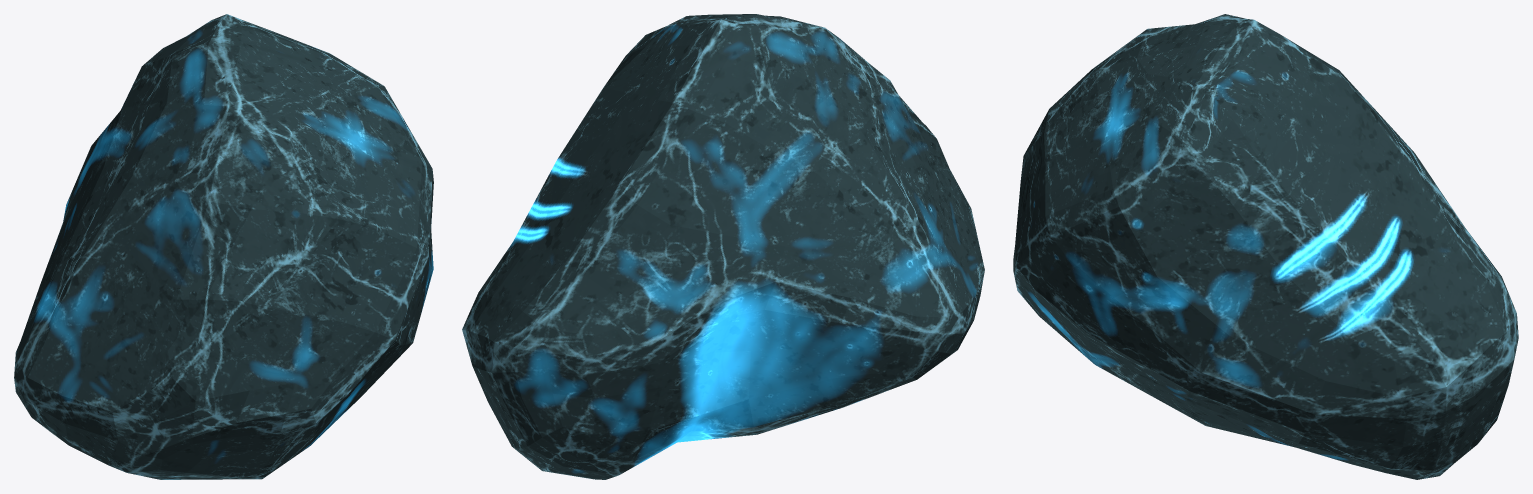
The model's file is runic_rock.glb.
3 renders of one model, left to right at view 1: azimuth 30°, elevation 25°; view 2: azimuth 150°, elevation 25°; view 3: azimuth 270°, elevation 25°, orthographic. The views are drawn at different scales.
Visible parts, largest first — view 1: Rock_Low:ZBrush_defualt_group; view 2: Rock_Low:ZBrush_defualt_group; view 3: Rock_Low:ZBrush_defualt_group.
Boxes of the visible parts, <box> form: Rock_Low:ZBrush_defualt_group: <box>14,14,433,479</box>; Rock_Low:ZBrush_defualt_group: <box>462,14,984,479</box>; Rock_Low:ZBrush_defualt_group: <box>1013,14,1518,479</box>.
Size of the model in its own units: 0.0243 by 0.0255 by 0.0274.
1 material, 1 textured.
